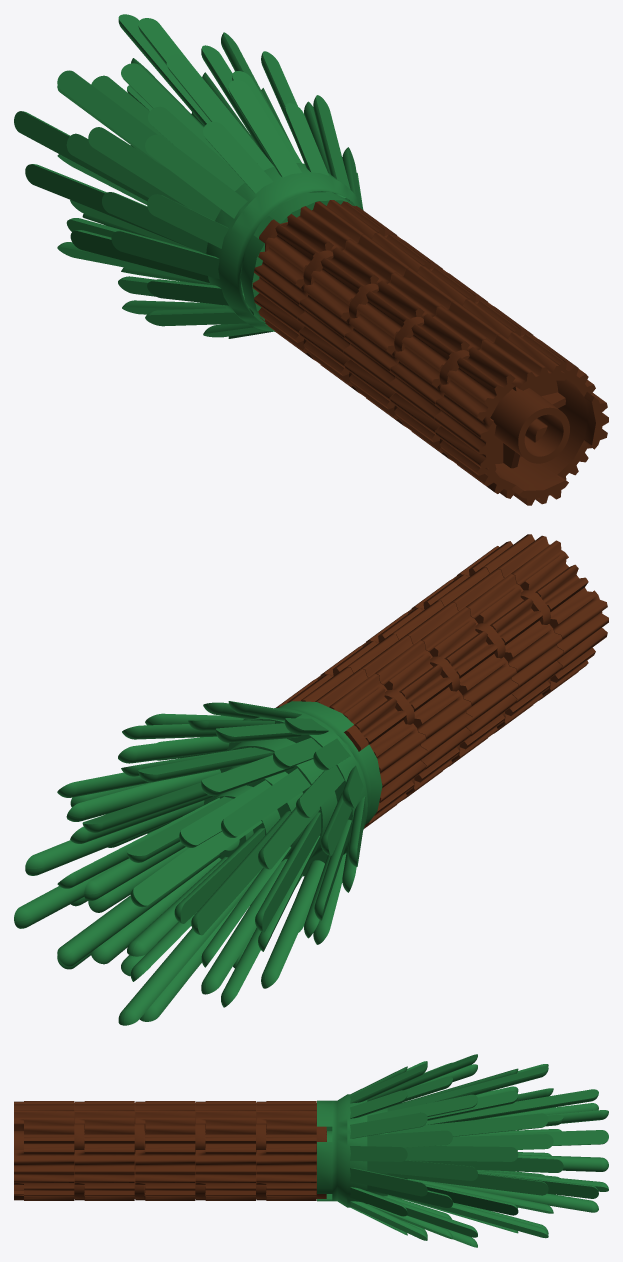
File: Tree2-1.dae
3 views of the same model, one above another, from view 1: azimuth 30°, elevation 25°; view 2: azimuth 150°, elevation 25°; view 3: azimuth 270°, elevation 25° (orthographic). The views are drawn at different scales.
Parts seen in each view (by area): view 1: Inner-Node-Tree2_dot_io-5, Inner-Node-Tree2_dot_io-0, Inner-Node-Tree2_dot_io-1, Inner-Node-Tree2_dot_io-3, Inner-Node-Tree2_dot_io-2, Inner-Node-Tree2_dot_io-4; view 2: Inner-Node-Tree2_dot_io-5, Inner-Node-Tree2_dot_io-2, Inner-Node-Tree2_dot_io-3, Inner-Node-Tree2_dot_io-0, Inner-Node-Tree2_dot_io-1, Inner-Node-Tree2_dot_io-4; view 3: Inner-Node-Tree2_dot_io-5, Inner-Node-Tree2_dot_io-0, Inner-Node-Tree2_dot_io-1, Inner-Node-Tree2_dot_io-3, Inner-Node-Tree2_dot_io-2, Inner-Node-Tree2_dot_io-4.
Part boxes in pixels (bbox=[...]): Inner-Node-Tree2_dot_io-5: bbox=[14, 14, 363, 338]; Inner-Node-Tree2_dot_io-0: bbox=[434, 332, 608, 505]; Inner-Node-Tree2_dot_io-1: bbox=[388, 299, 537, 460]; Inner-Node-Tree2_dot_io-3: bbox=[298, 233, 446, 393]; Inner-Node-Tree2_dot_io-2: bbox=[343, 266, 491, 427]; Inner-Node-Tree2_dot_io-4: bbox=[252, 200, 400, 360]; Inner-Node-Tree2_dot_io-5: bbox=[14, 701, 382, 1025]; Inner-Node-Tree2_dot_io-2: bbox=[362, 600, 518, 766]; Inner-Node-Tree2_dot_io-3: bbox=[316, 634, 472, 800]; Inner-Node-Tree2_dot_io-0: bbox=[453, 534, 608, 700]; Inner-Node-Tree2_dot_io-1: bbox=[407, 567, 563, 733]; Inner-Node-Tree2_dot_io-4: bbox=[276, 667, 427, 828]; Inner-Node-Tree2_dot_io-5: bbox=[317, 1054, 608, 1247]; Inner-Node-Tree2_dot_io-0: bbox=[14, 1101, 84, 1200]; Inner-Node-Tree2_dot_io-1: bbox=[74, 1101, 144, 1200]; Inner-Node-Tree2_dot_io-3: bbox=[195, 1101, 265, 1200]; Inner-Node-Tree2_dot_io-2: bbox=[135, 1101, 205, 1200]; Inner-Node-Tree2_dot_io-4: bbox=[256, 1101, 326, 1200].
Size of the model in its own units: 77.1 by 77.18 by 236.
